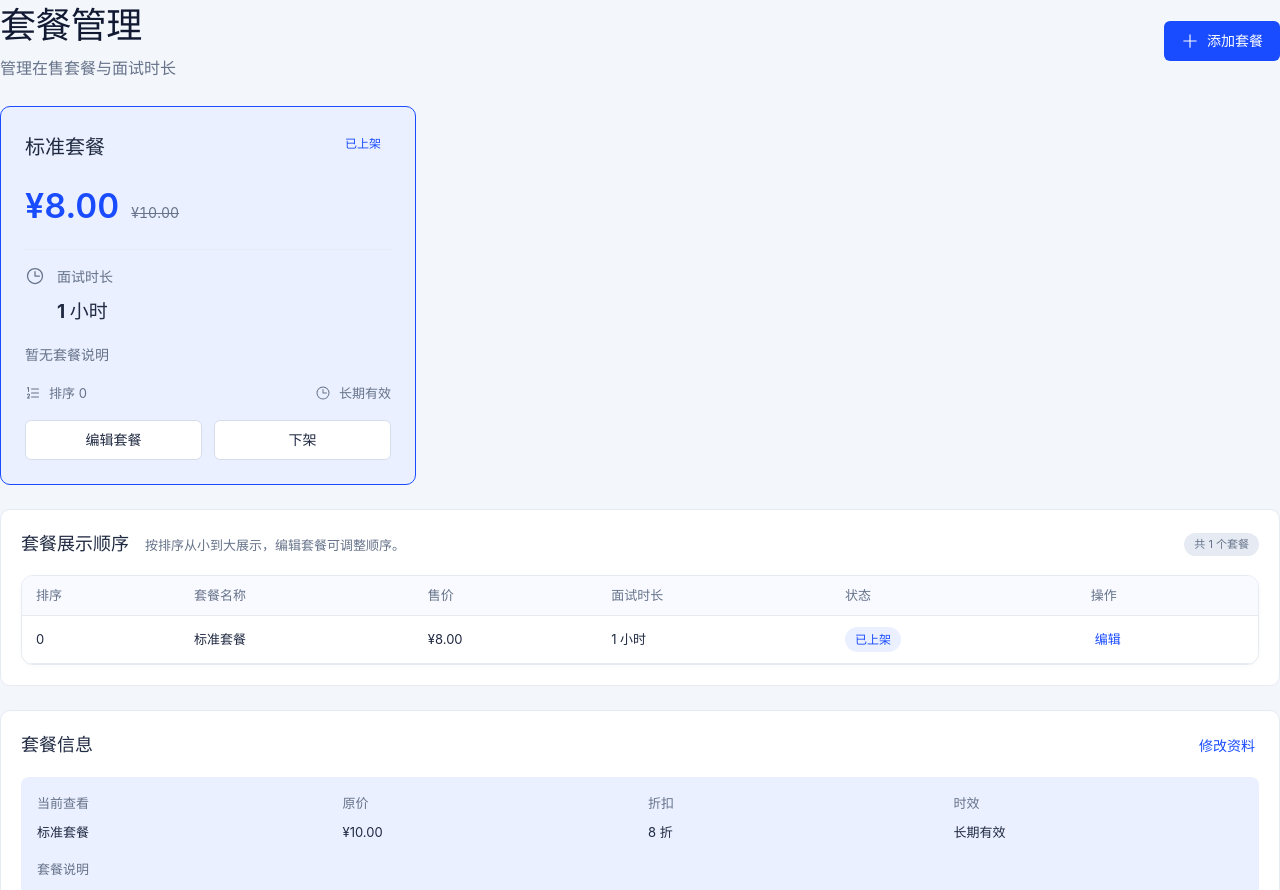
Test case: payment management › confirms unlisting and preserves package fields and version
What coordinates should you click on to do the following:
click the button with aria-label "下架 标准套餐"
I would click on:
 (302, 440)
Its box is [214, 420, 391, 460].
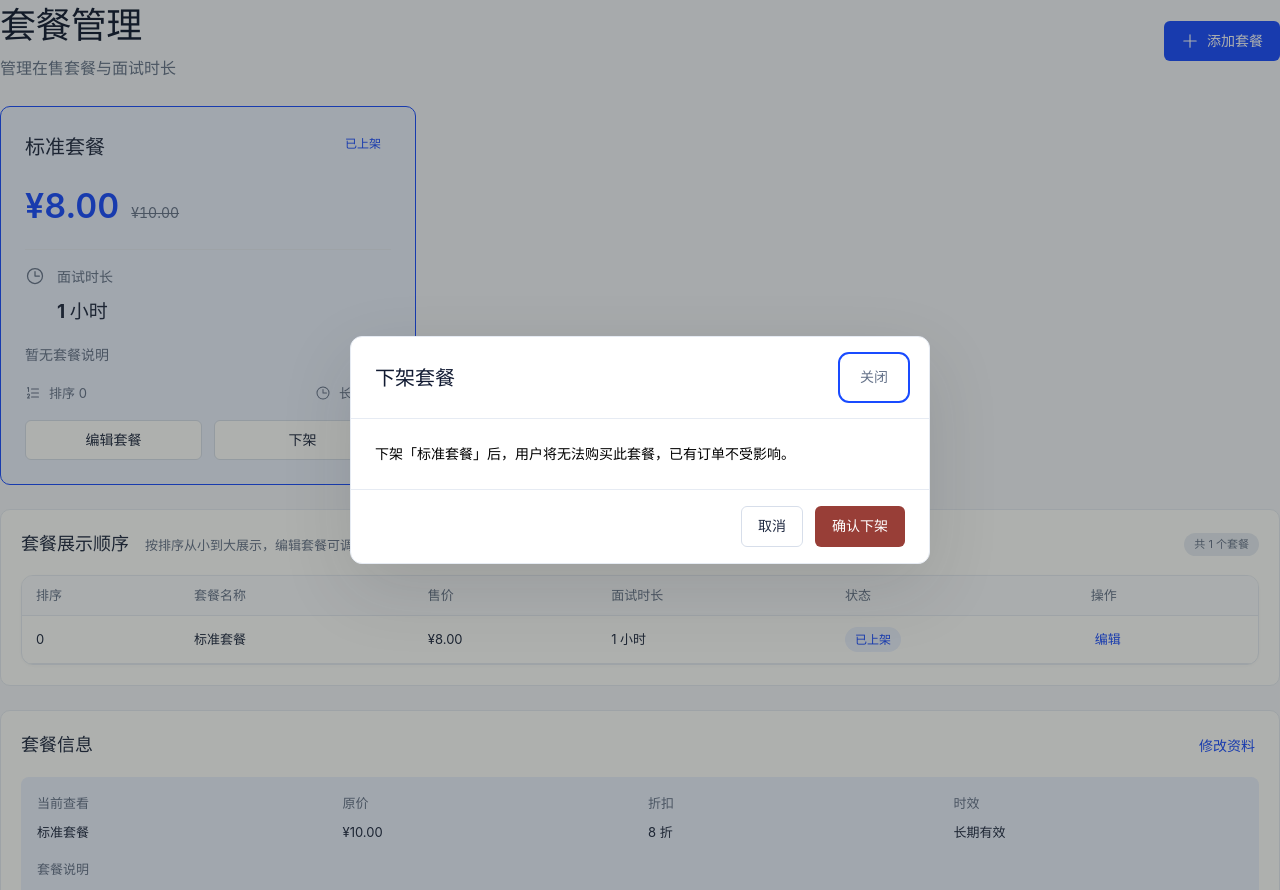
What coordinates should you click on to do the following:
click the button "取消"
I would click on:
 (772, 526)
Its box is [741, 506, 803, 547].
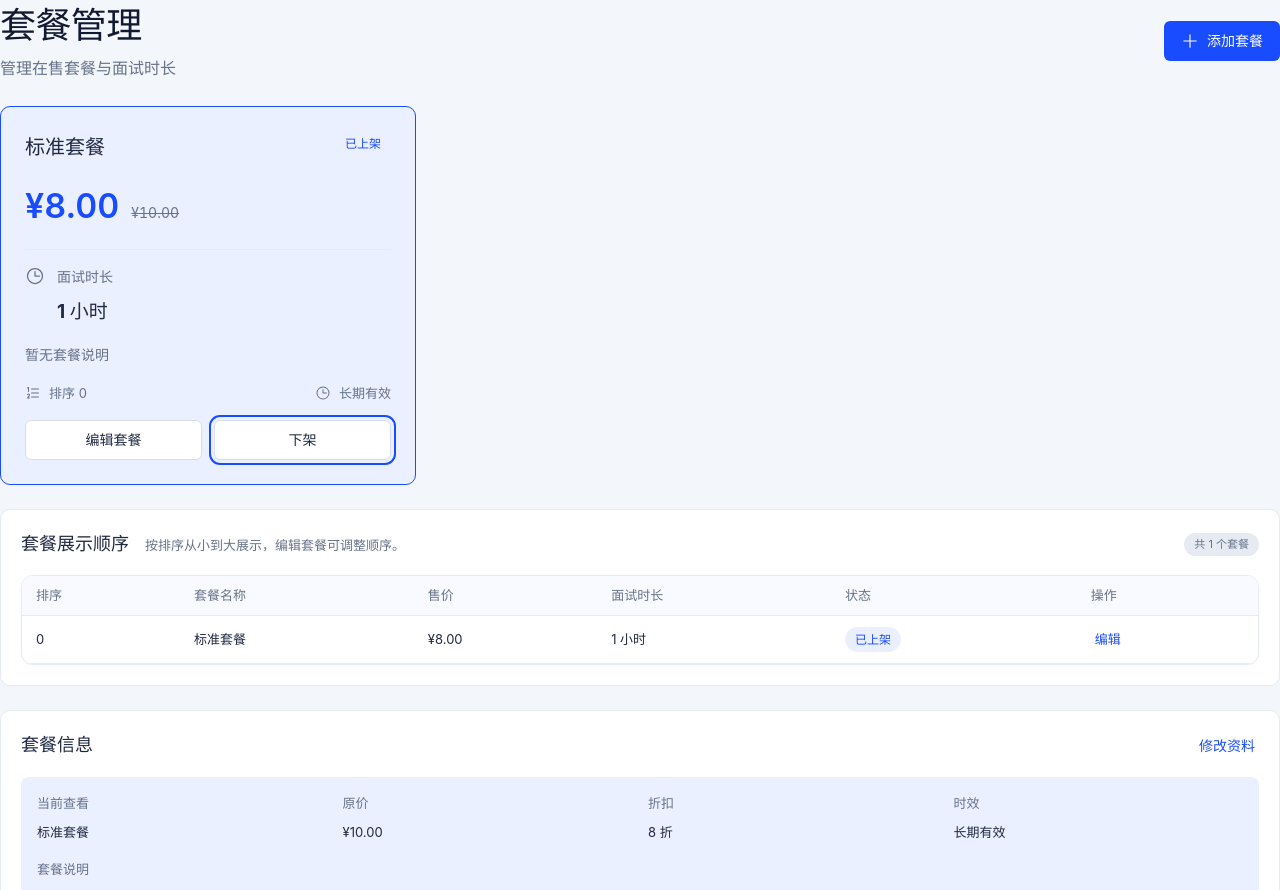
What coordinates should you click on to do the following:
click the button with aria-label "下架 标准套餐"
I would click on:
 (302, 440)
Its box is [214, 420, 391, 460].
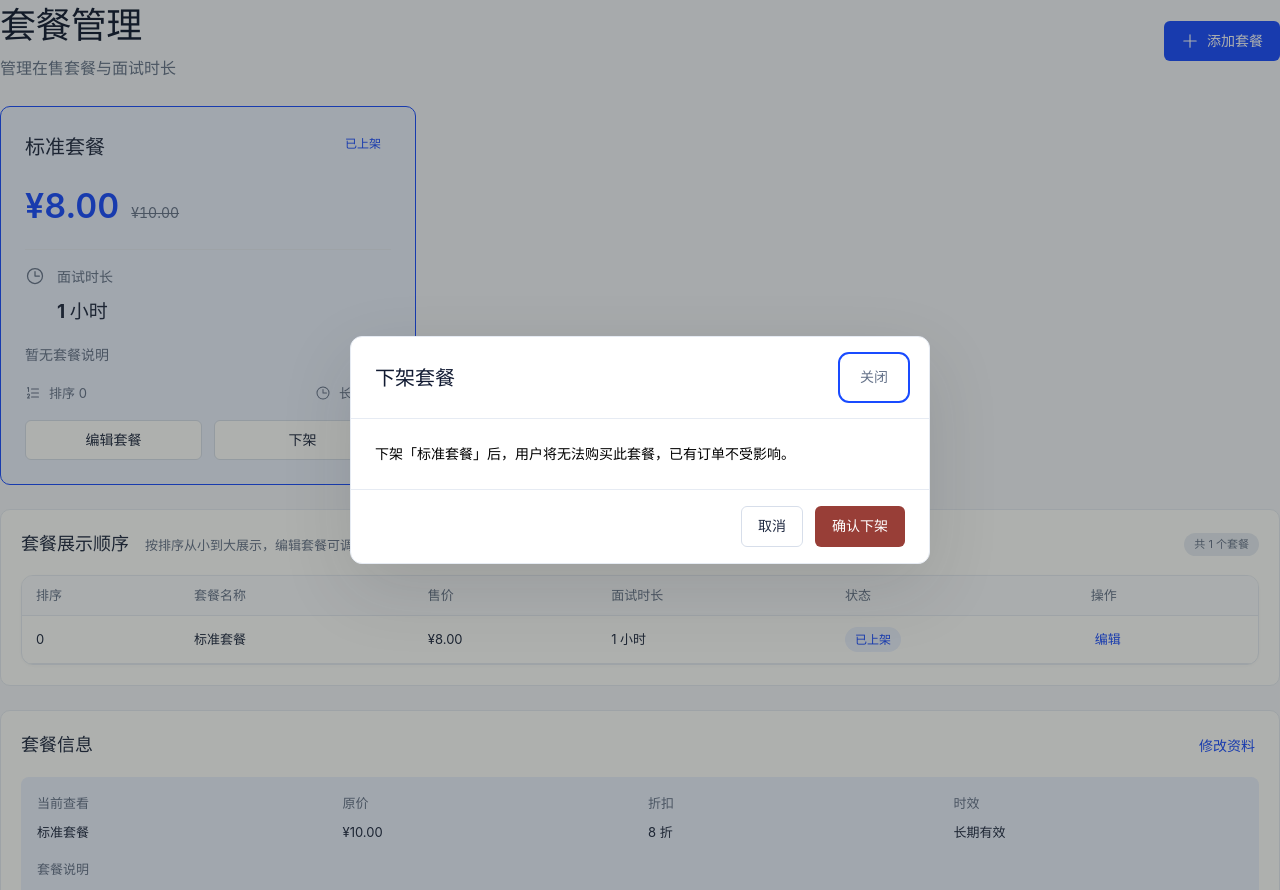
What coordinates should you click on to do the following:
click the button "确认下架"
I would click on:
 (860, 526)
Its box is [815, 506, 905, 547].
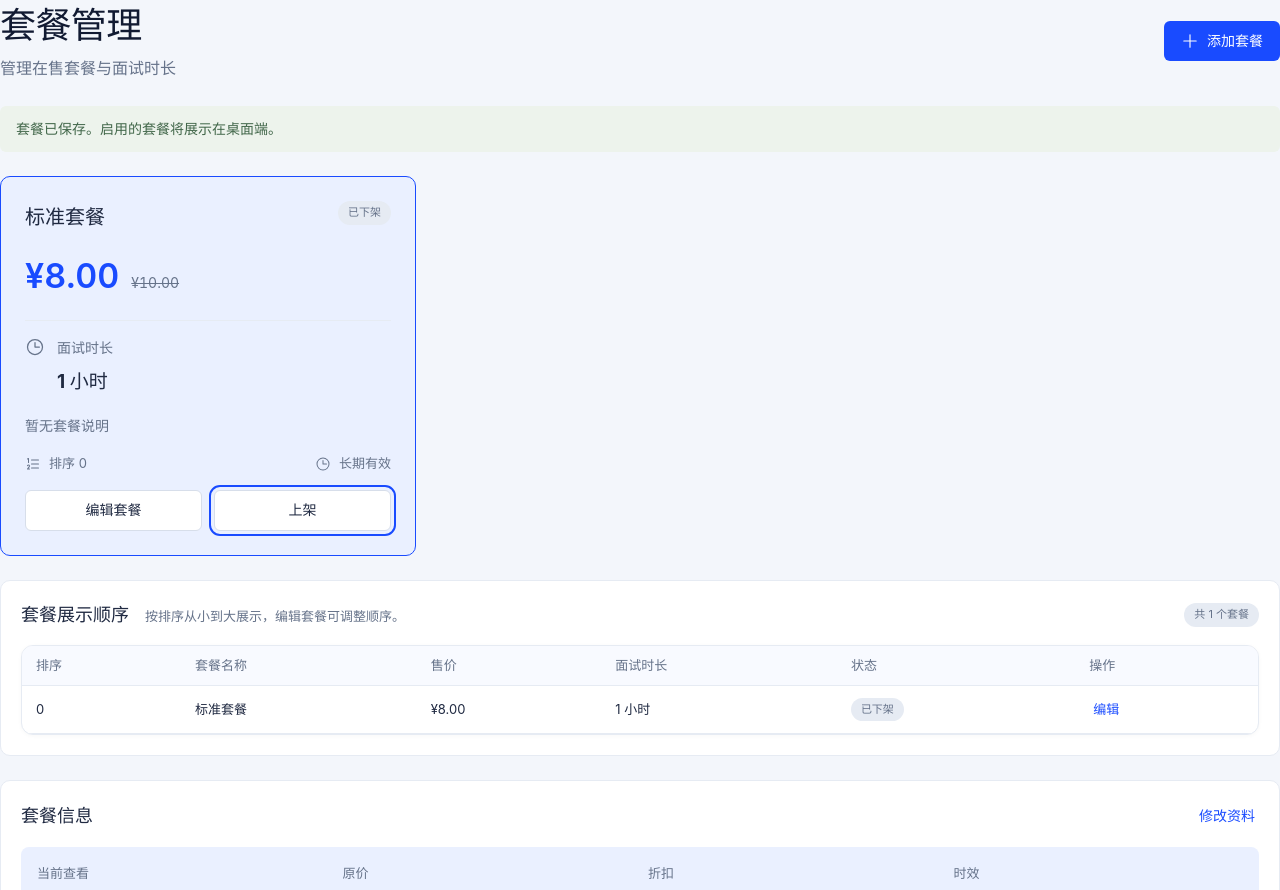
Check: the button with aria-label "上架 标准套餐" is shown, box [214, 490, 391, 530]
